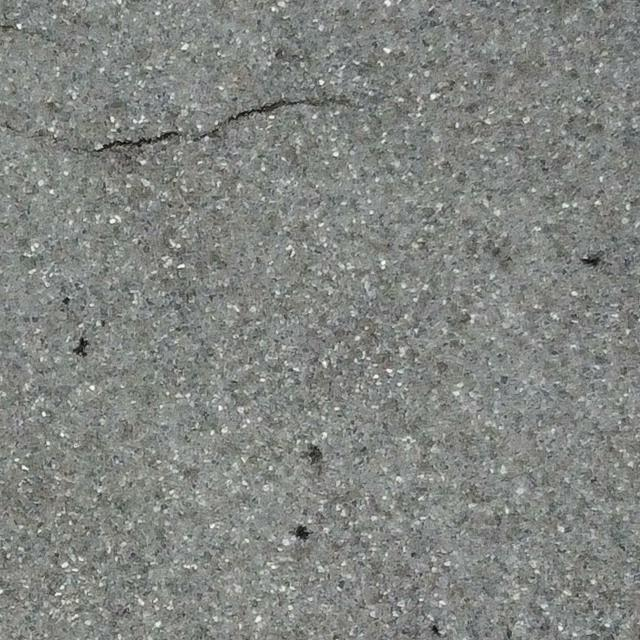TransverseCrack: (92, 96, 318, 154)
